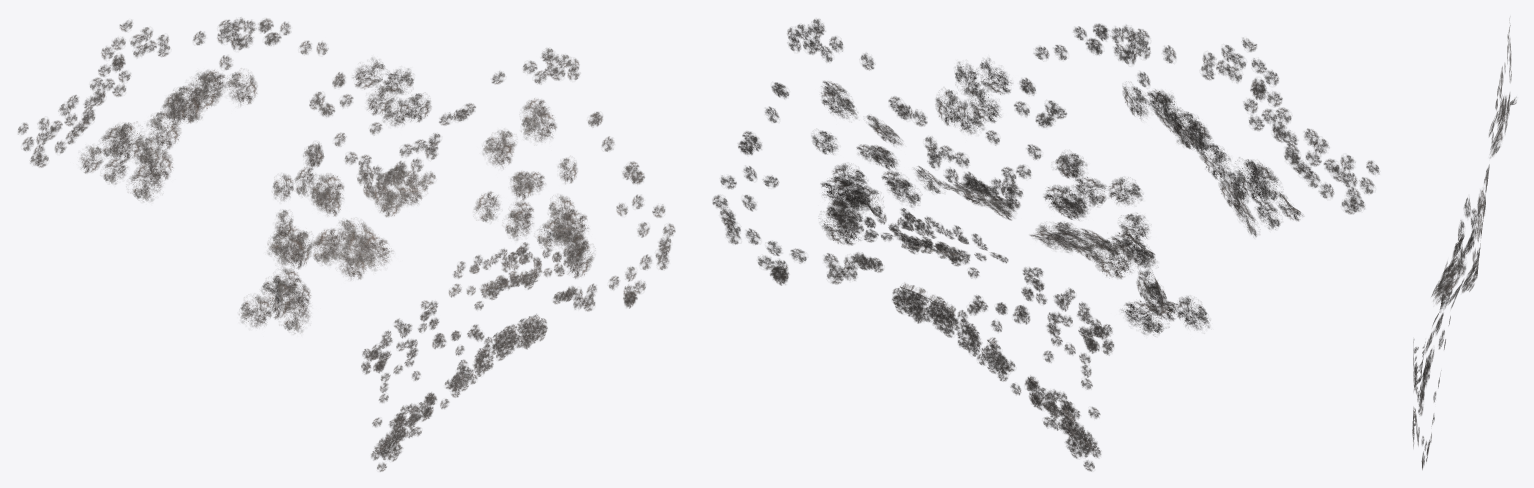
Rendered from stijena_plitka.glb.
3 views of the same model, side by side, from view 1: azimuth 30°, elevation 25°; view 2: azimuth 150°, elevation 25°; view 3: azimuth 270°, elevation 25° (orthographic). The views are drawn at different scales.
Parts seen in each view (by area): view 1: Background_Tree_Atlas.013_Rock_Decal_0; view 2: Background_Tree_Atlas.013_Rock_Decal_0; view 3: Background_Tree_Atlas.013_Rock_Decal_0.
Part boxes in pixels (left/top/right/bottom): Background_Tree_Atlas.013_Rock_Decal_0: left=18, top=17, right=675, bottom=471; Background_Tree_Atlas.013_Rock_Decal_0: left=712, top=19, right=1379, bottom=471; Background_Tree_Atlas.013_Rock_Decal_0: left=1412, top=25, right=1516, bottom=469.
Size of the model in its own units: 235 by 167 by 44.94.
Materials: 1 (1 with a texture image).
